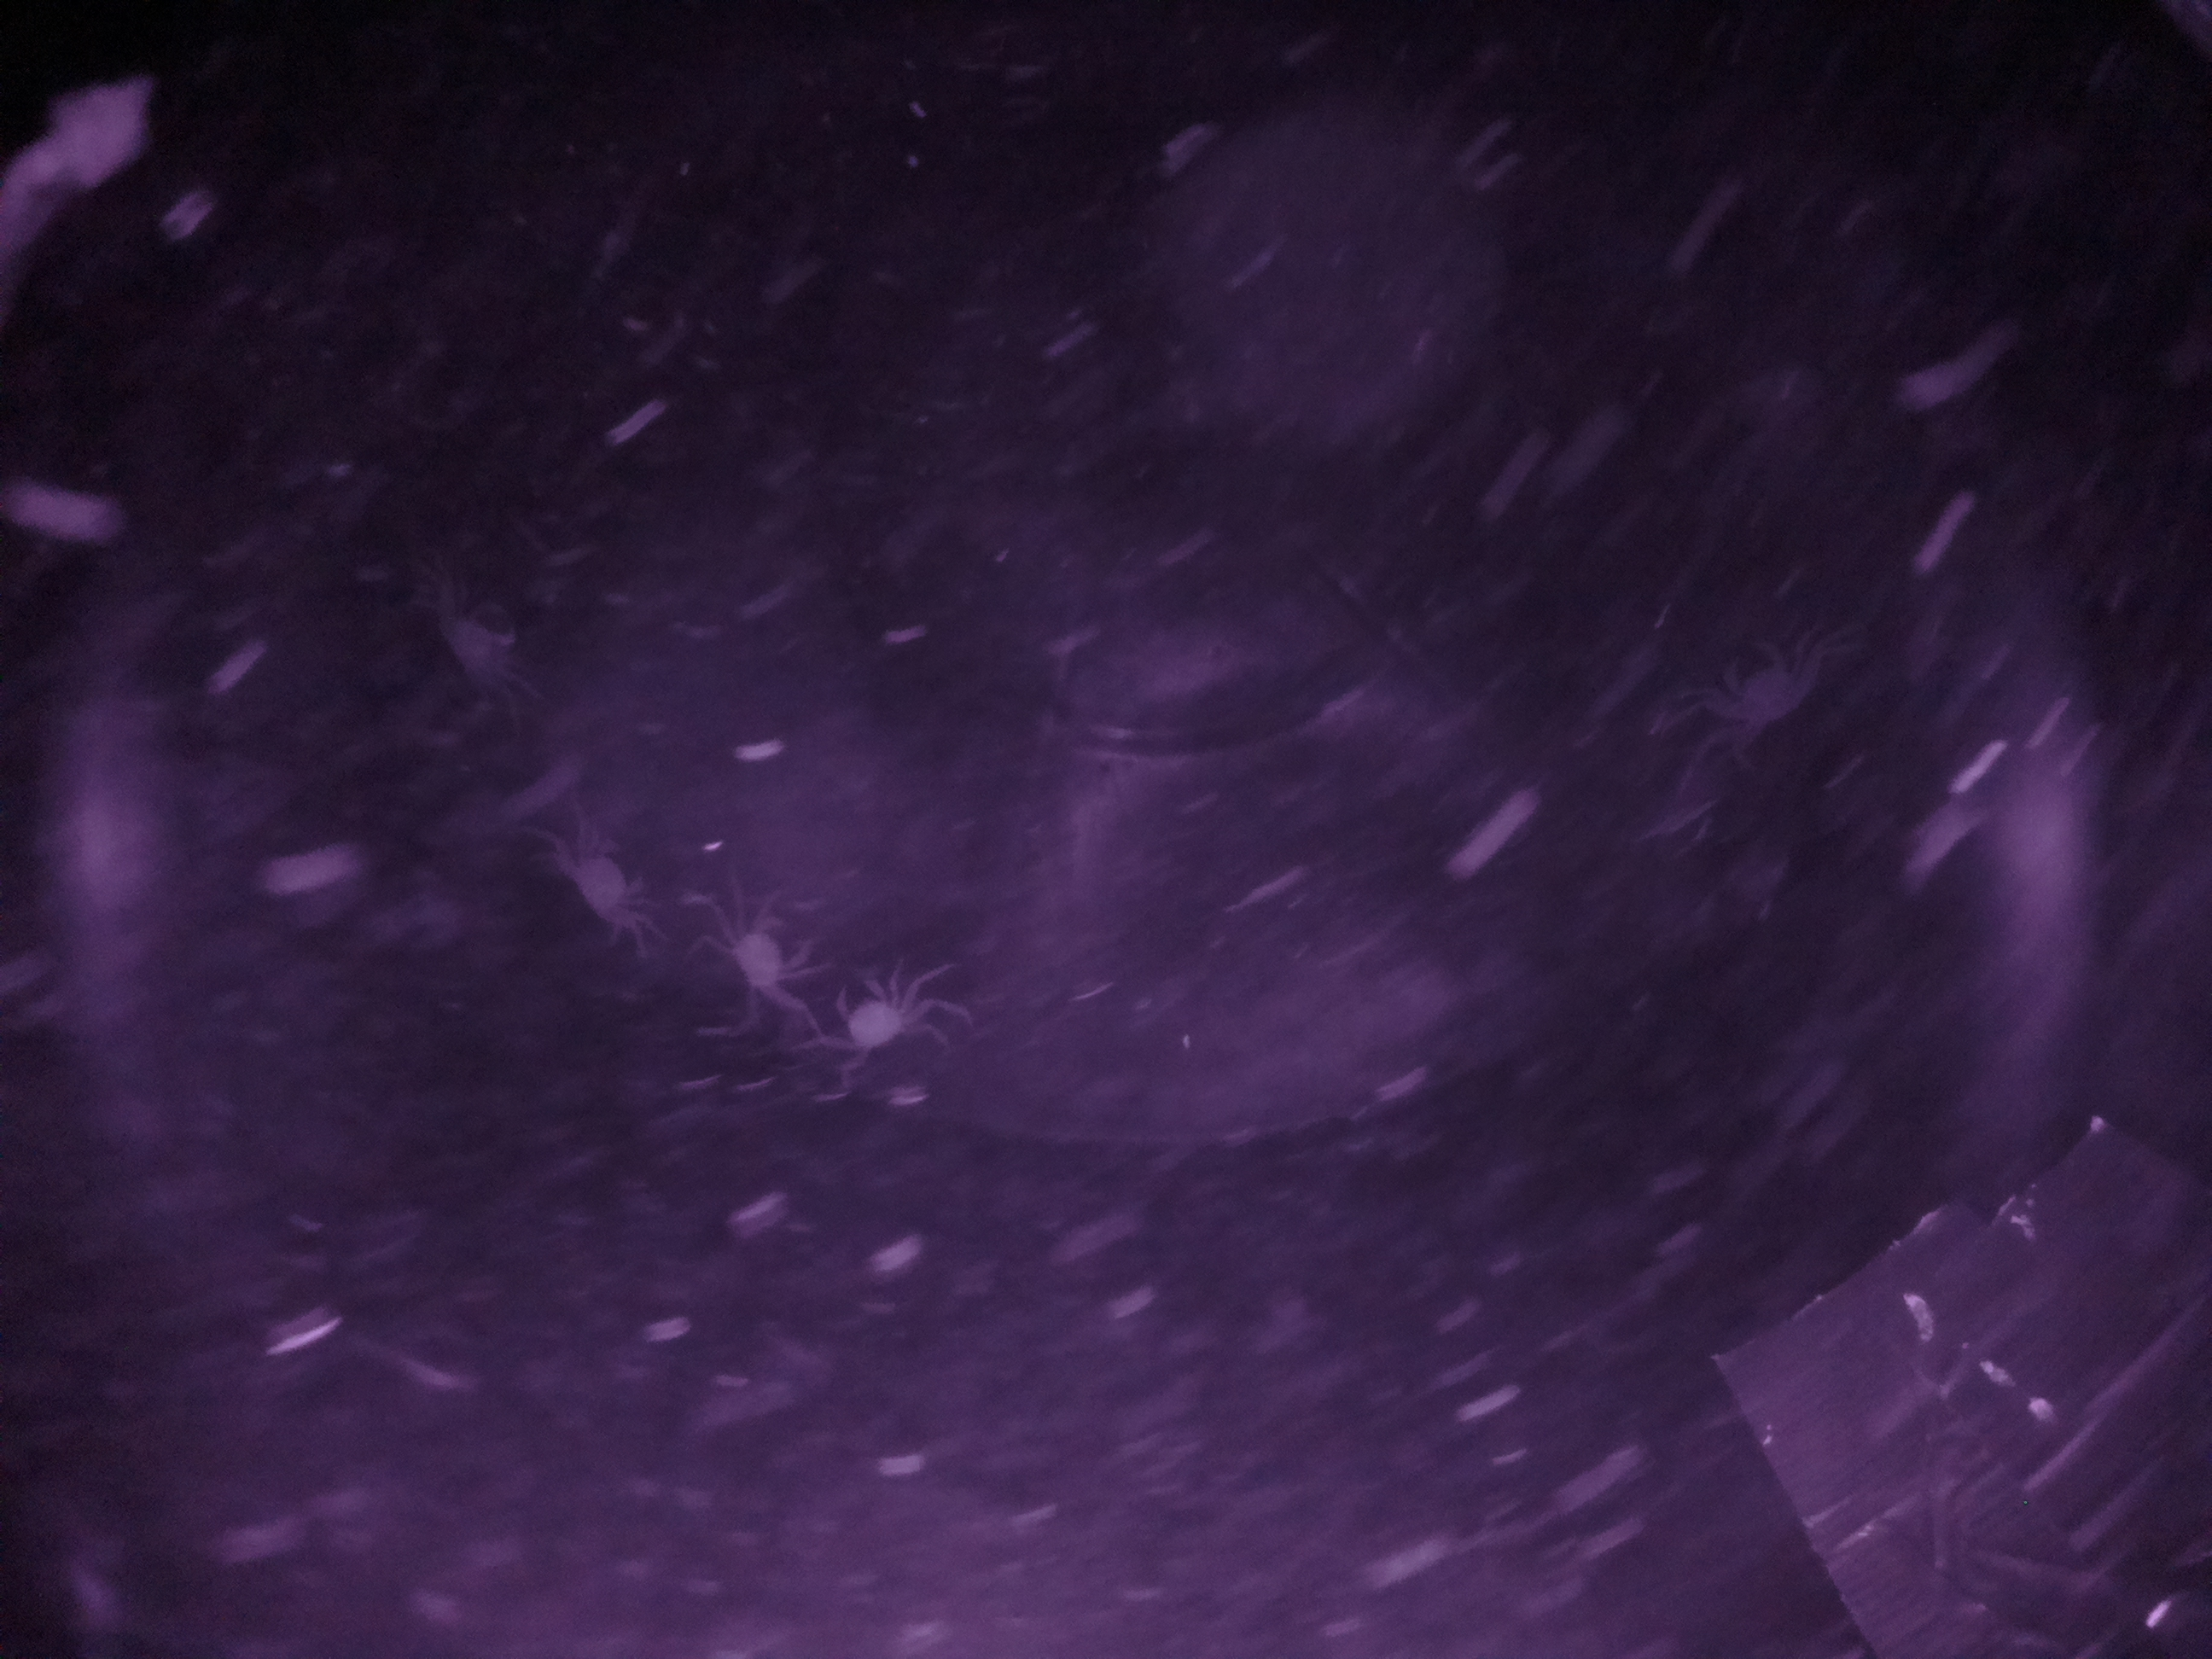Crab: (550, 810, 671, 946), (695, 897, 840, 1000), (824, 950, 925, 1077)
